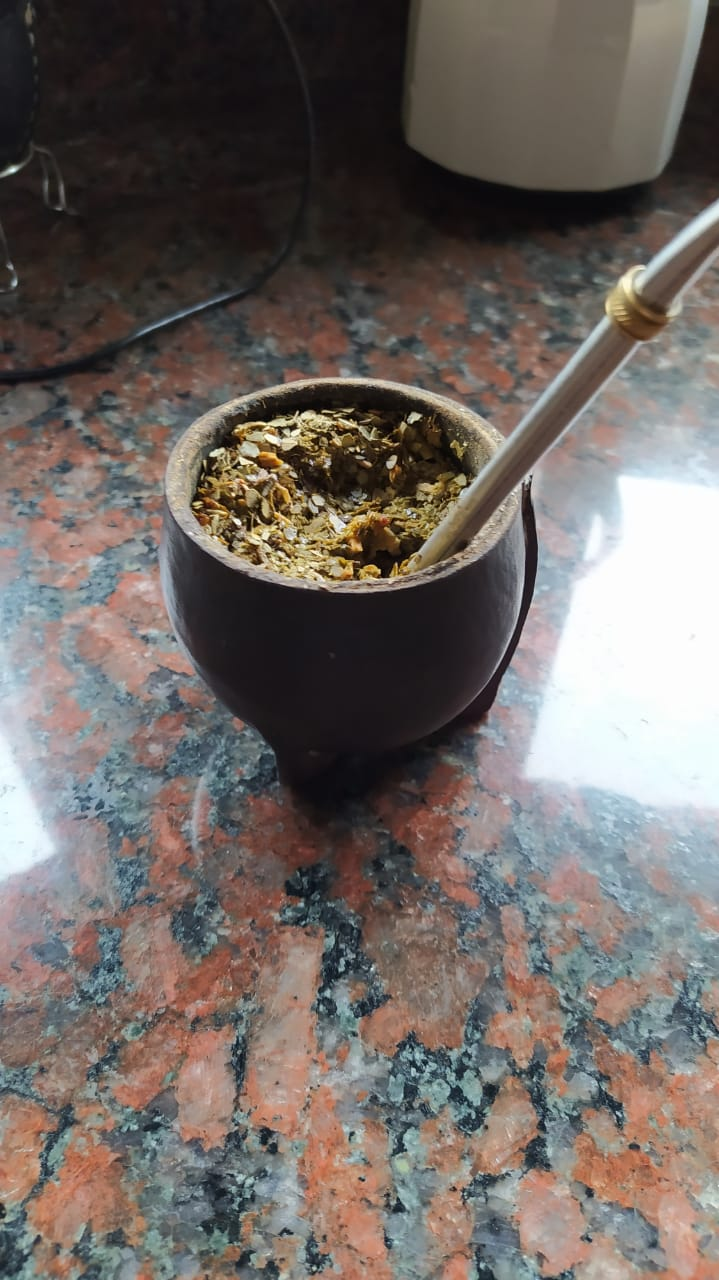calabaza: (81, 186, 717, 805)
mate: (83, 188, 719, 807)
